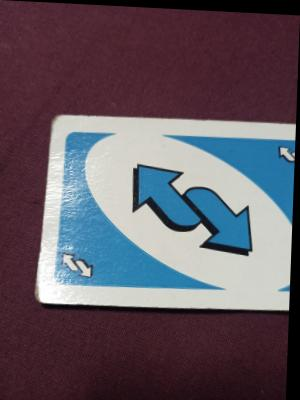blue: (58, 126, 291, 294)
reverse: (61, 249, 99, 280)
